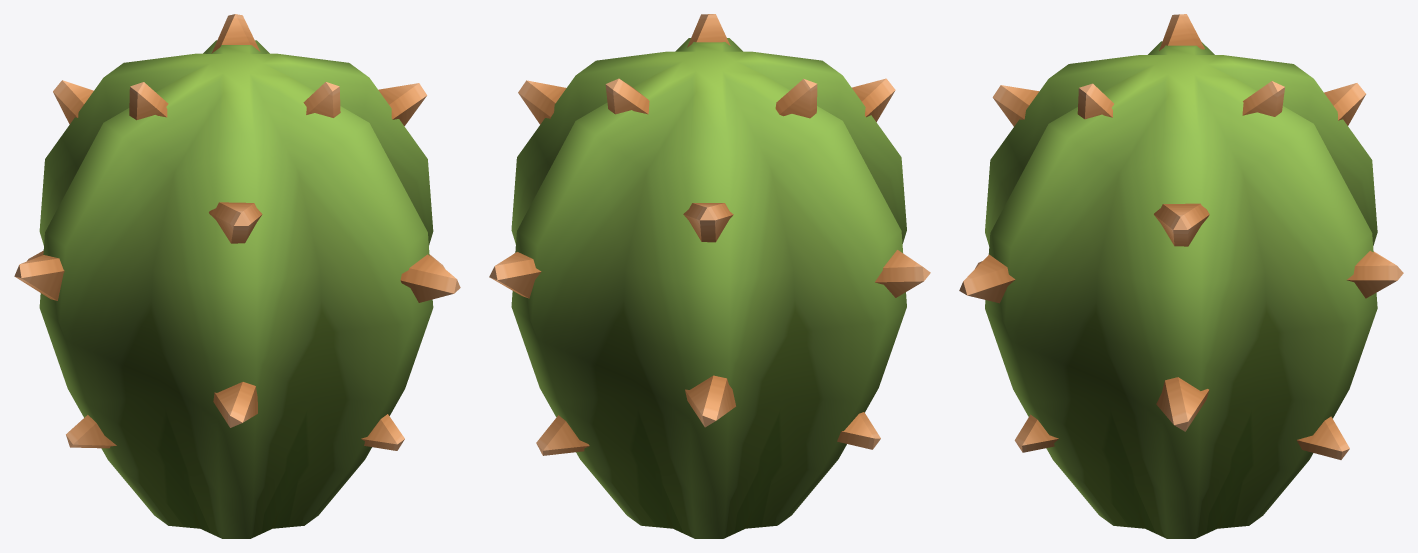
Rendered from desert-cactus-a.obj.
3 renders of one model, left to right at view 1: azimuth 30°, elevation 25°; view 2: azimuth 150°, elevation 25°; view 3: azimuth 270°, elevation 25°, orthographic.
Visible parts, largest first — view 1: desert-cactus-a; view 2: desert-cactus-a; view 3: desert-cactus-a.
Part boxes in pixels (left/top/right/bottom): desert-cactus-a: left=14, top=14, right=460, bottom=538; desert-cactus-a: left=489, top=14, right=930, bottom=538; desert-cactus-a: left=959, top=14, right=1403, bottom=538.
Size of the model in its own units: 3.58 by 3.55 by 3.23.
1 material, 1 textured.
